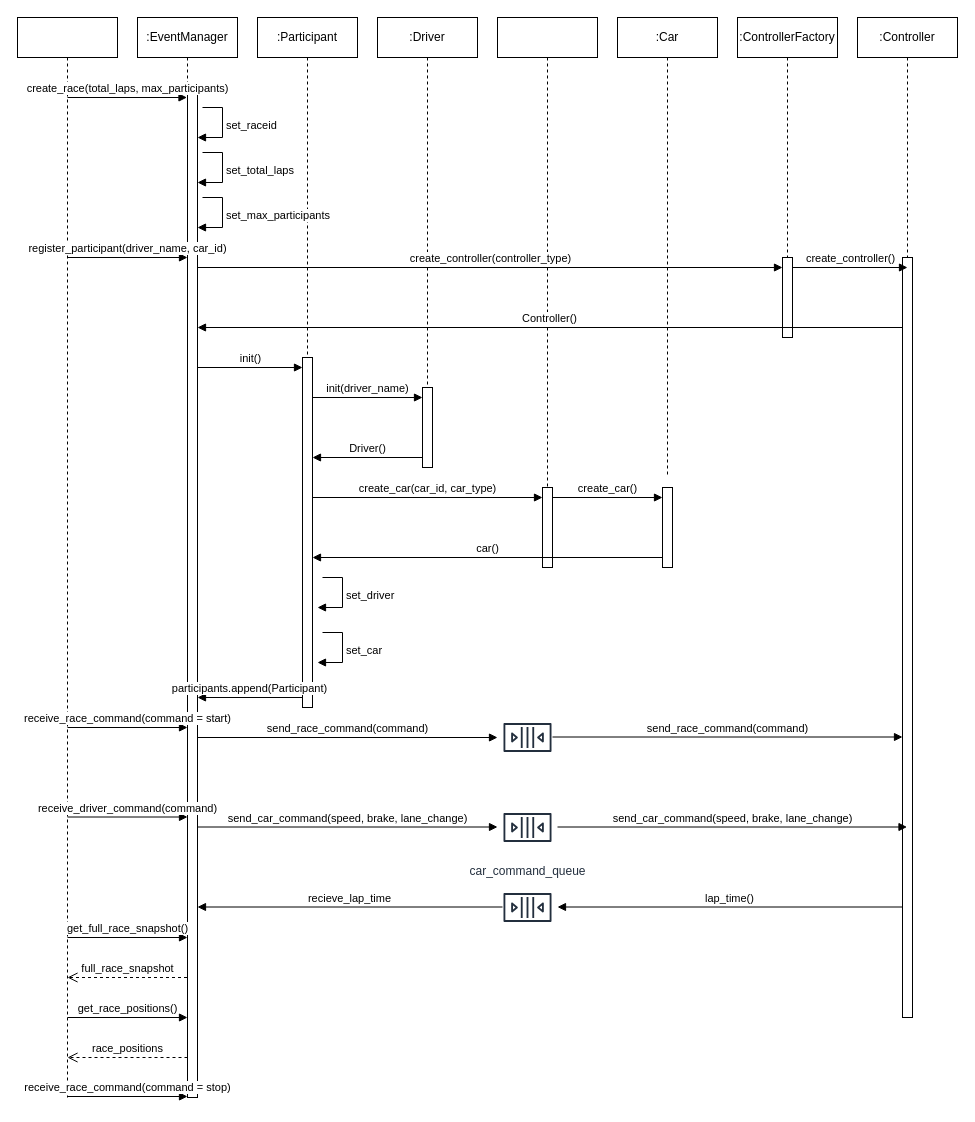
This 975x1122 diagram has some shape labels left out. The shapes that lost their labels are listed below. From the top down, each one's box as (x1, y1, x2, y2) in pixels, then its label:
(496, 16, 598, 488): :CarFactory
(16, 16, 118, 1098): :Main
(496, 706, 558, 768): command_queue
(496, 876, 558, 938): lap_time-queue
